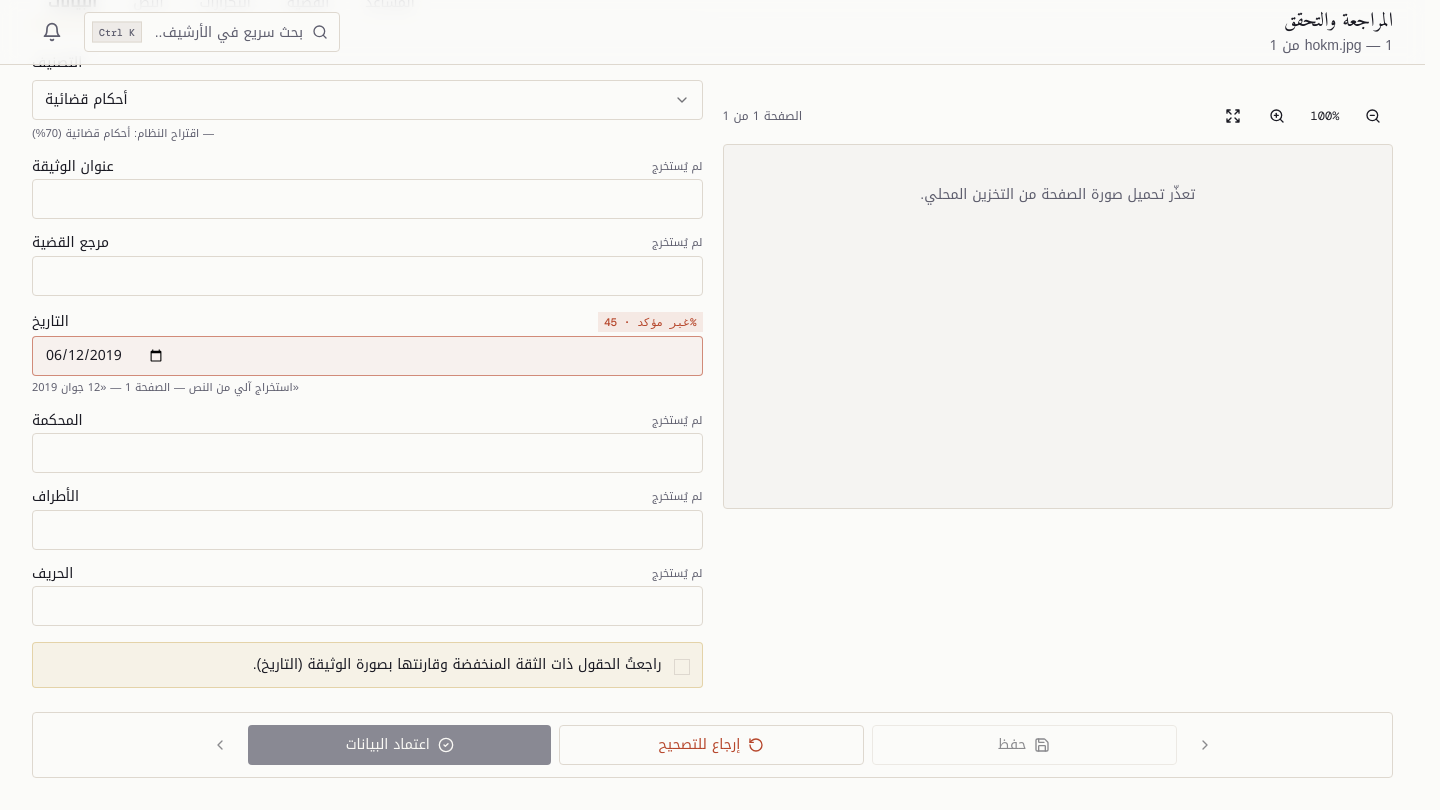
Test: mobile document verification › renders the review screen with stacked fields and a persistent action bar on a phone
The width and height of the screenshot is (1440, 810).
(page scrolled)
Check: the button named "عرض بملء الشاشة" is shown, box [1213, 96, 1253, 136]
Check: the date field labelled "التاريخ" holds "2019-06-12", box [32, 336, 702, 376]
Click the checkbox: (682, 667) [674, 659, 690, 675]
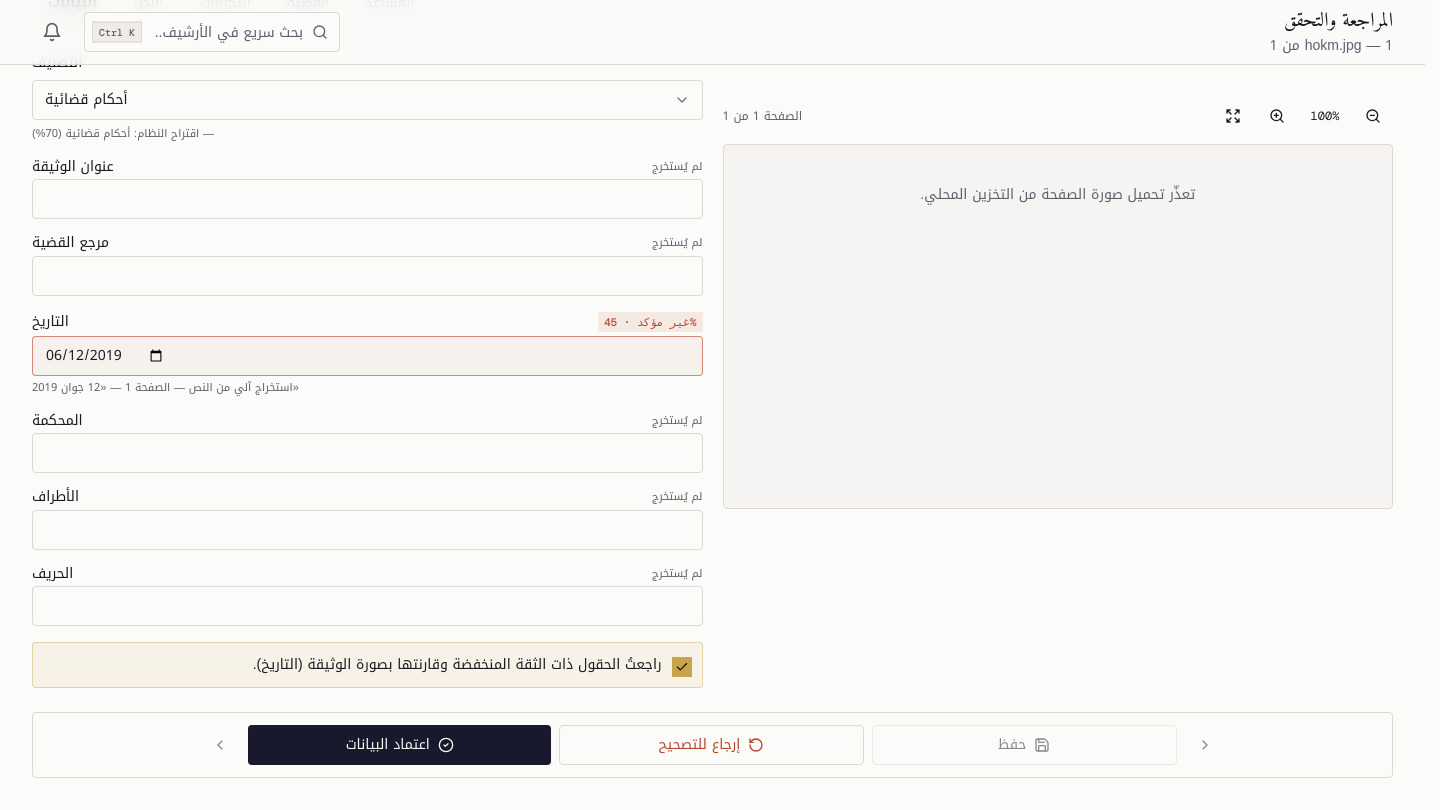
Check: the button "اعتماد البيانات" is enabled
Click the button "اعتماد البيانات": (400, 745) [248, 725, 551, 765]
(page scrolled)
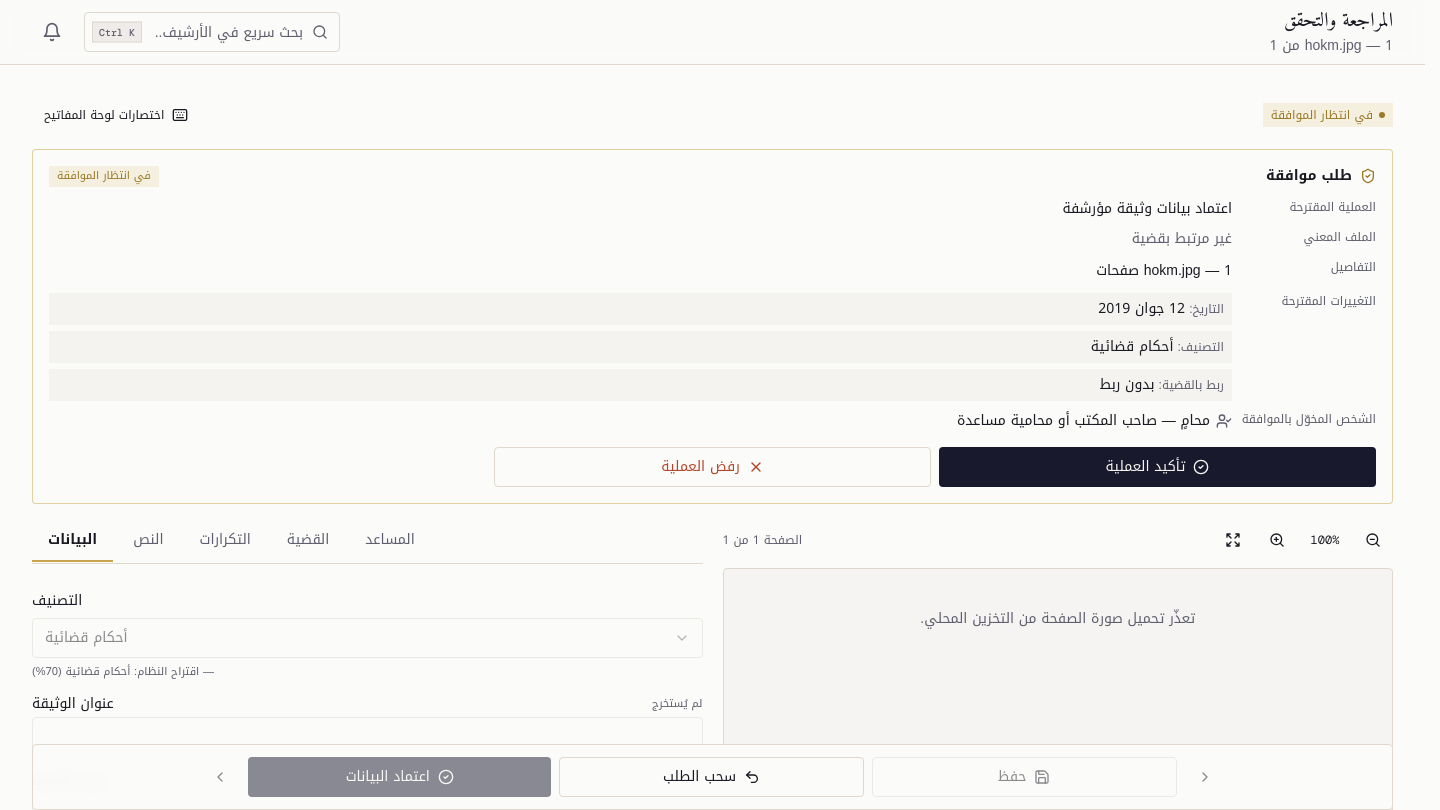
Check: the element "طلب موافقة" is shown, box [32, 149, 1393, 504]
